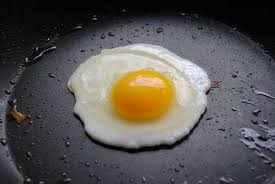Telur ceplok: (68, 43, 212, 152)
